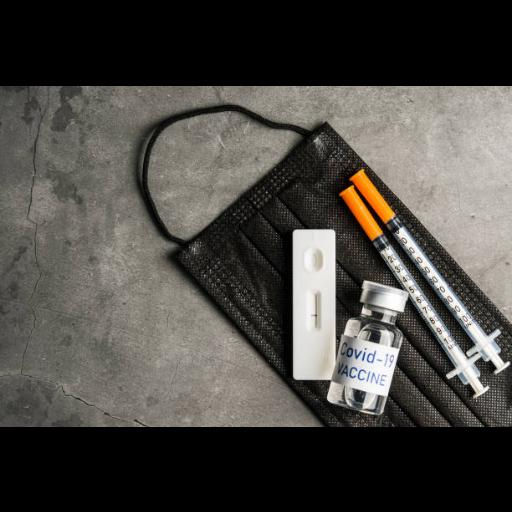Neg: (292, 226, 336, 380)
